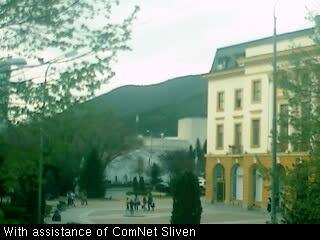person: (133, 194, 140, 213), (147, 192, 153, 211), (266, 197, 272, 214), (125, 197, 131, 214), (66, 191, 72, 207), (70, 191, 76, 206), (141, 197, 147, 211), (130, 199, 134, 213), (151, 203, 156, 212)
